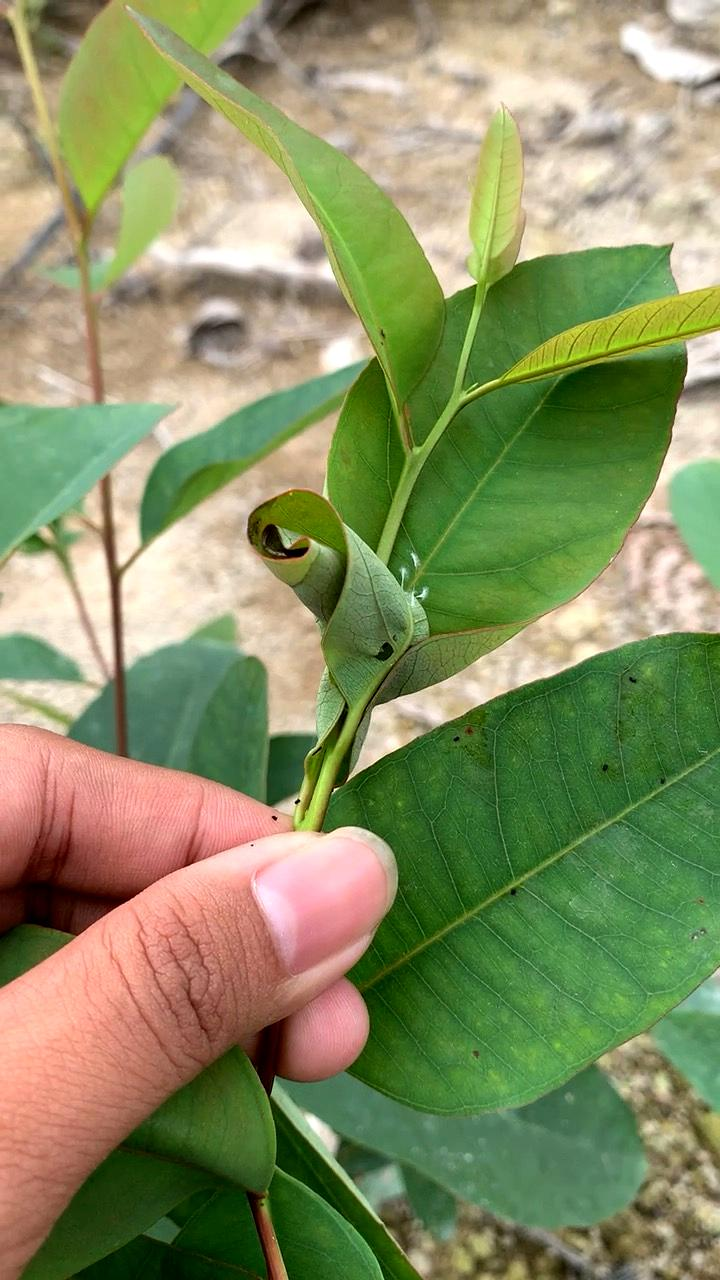Leaf Roller - Leaf: (216, 458, 457, 722)
